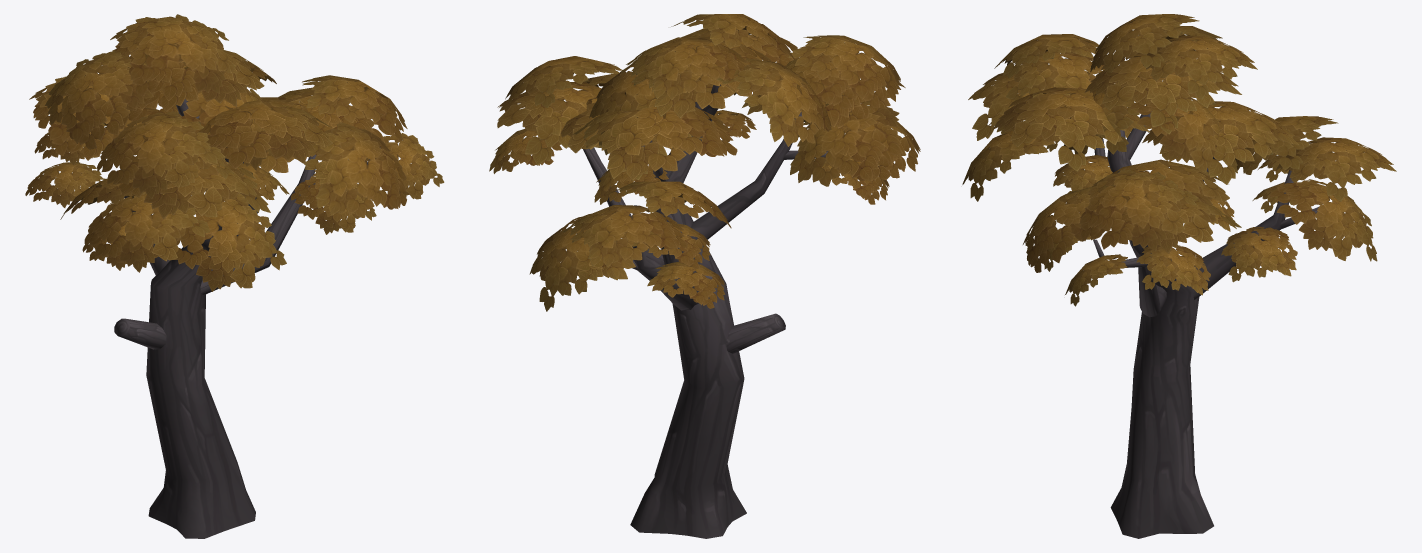
The model's file is Tree2.glb.
The picture shows the model from 3 angles, left to right: view 1: azimuth 30°, elevation 25°; view 2: azimuth 150°, elevation 25°; view 3: azimuth 270°, elevation 25°; orthographic projection. The views are drawn at different scales.
Parts seen in each view (by area): view 1: oak_orange_2.001_oak_0; view 2: oak_orange_2.001_oak_0; view 3: oak_orange_2.001_oak_0.
Part boxes in pixels (box(x1,y1,x2,y2)): oak_orange_2.001_oak_0: box(25, 14, 444, 538); oak_orange_2.001_oak_0: box(489, 14, 920, 538); oak_orange_2.001_oak_0: box(962, 14, 1396, 538).
Size of the model in its own units: 2.82 by 3.47 by 2.91.
Materials: 1 (1 with a texture image).
